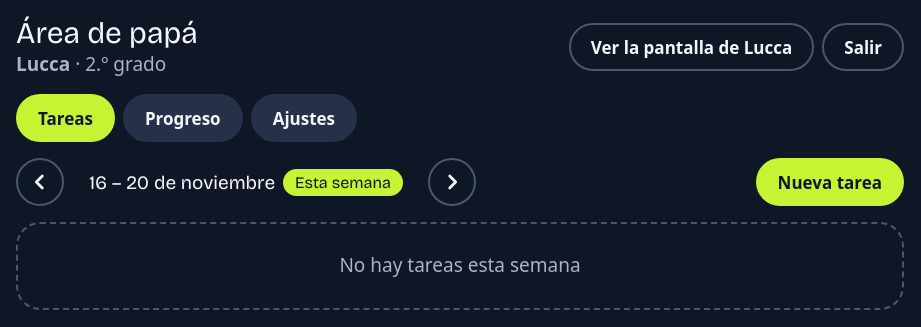
Test case: ParentApp › "Salir" closes the session and shows the PIN again, without the data
This screenshot has width=921, height=327.
expect the text "Lucca" is shown: met, box [16, 50, 70, 76]
Click the button "Salir" at (863, 47), box [822, 23, 904, 71]
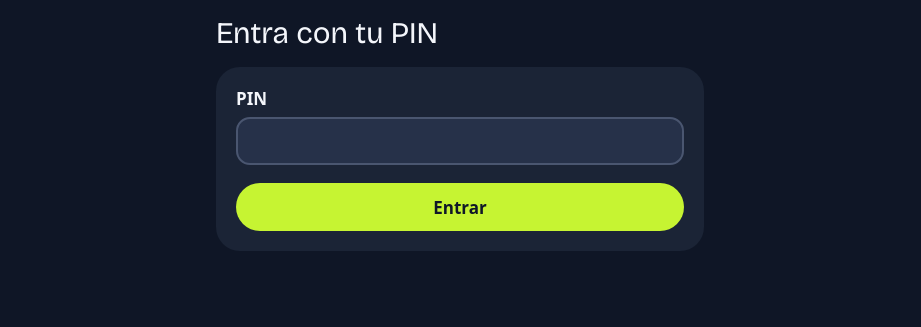
expect the password field labelled "PIN" is shown: met, box [236, 117, 684, 165]
expect the text "Lucca" is gone: met
